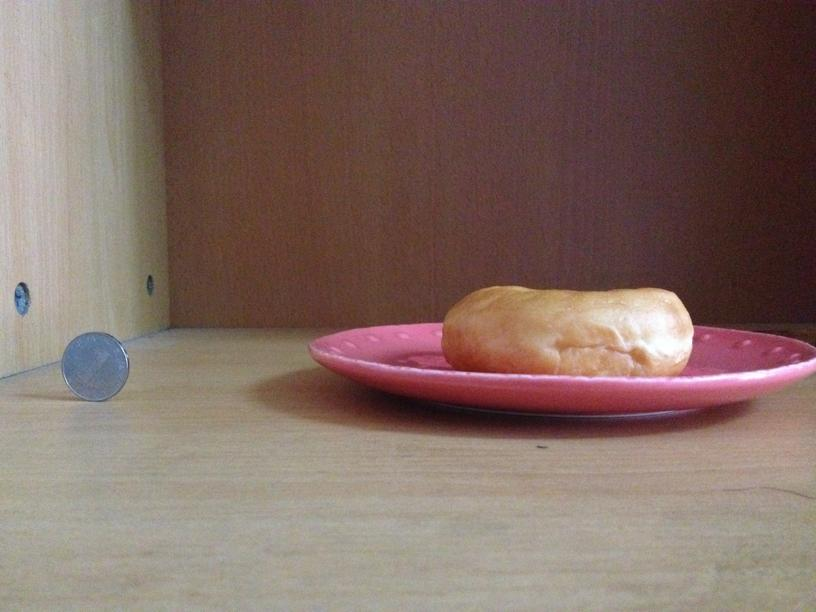coin: (60, 333, 128, 401)
doughnut: (440, 282, 693, 376)
